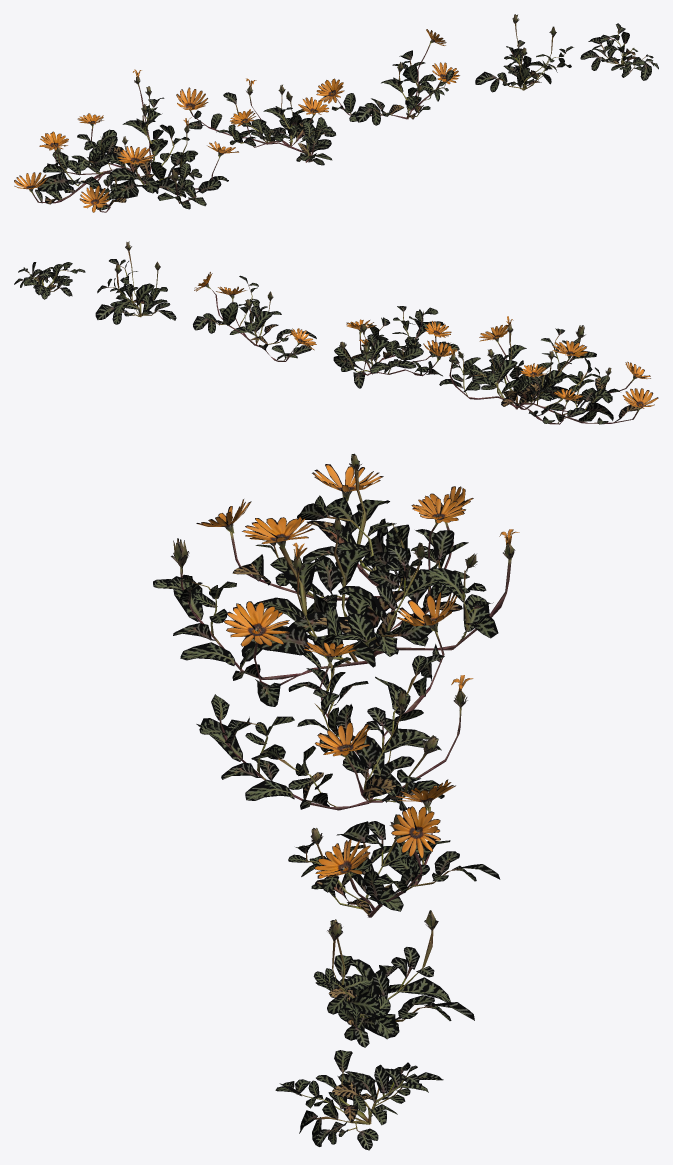
Rendered from veg_flower_ursinia.glb.
The picture shows the model from 3 angles, top to bottom: view 1: azimuth 30°, elevation 25°; view 2: azimuth 150°, elevation 25°; view 3: azimuth 270°, elevation 25°; orthographic projection. The views are drawn at different scales.
Visible parts, largest first — view 1: flower_ursinia_a_LOD0, flower_ursinia_b_LOD0, flower_ursinia_c_LOD0, flower_ursinia_d_LOD0, flower_ursinia_e_LOD0; view 2: flower_ursinia_a_LOD0, flower_ursinia_b_LOD0, flower_ursinia_c_LOD0, flower_ursinia_d_LOD0, flower_ursinia_e_LOD0; view 3: flower_ursinia_a_LOD0, flower_ursinia_b_LOD0, flower_ursinia_c_LOD0, flower_ursinia_d_LOD0, flower_ursinia_e_LOD0.
Part boxes in pixels (x1=…): flower_ursinia_a_LOD0: x1=14, y1=69, x2=238, y2=212; flower_ursinia_b_LOD0: x1=176, y1=78, x2=335, y2=165; flower_ursinia_c_LOD0: x1=316, y1=29, x2=459, y2=125; flower_ursinia_d_LOD0: x1=475, y1=14, x2=573, y2=92; flower_ursinia_e_LOD0: x1=580, y1=23, x2=658, y2=80; flower_ursinia_a_LOD0: x1=439, y1=316, x2=658, y2=424; flower_ursinia_b_LOD0: x1=333, y1=306, x2=459, y2=388; flower_ursinia_c_LOD0: x1=193, y1=272, x2=316, y2=361; flower_ursinia_d_LOD0: x1=95, y1=241, x2=176, y2=324; flower_ursinia_e_LOD0: x1=14, y1=262, x2=85, y2=299; flower_ursinia_a_LOD0: x1=153, y1=453, x2=519, y2=706; flower_ursinia_b_LOD0: x1=196, y1=591, x2=473, y2=810; flower_ursinia_c_LOD0: x1=288, y1=779, x2=500, y2=917; flower_ursinia_d_LOD0: x1=313, y1=910, x2=474, y2=1047; flower_ursinia_e_LOD0: x1=275, y1=1050, x2=443, y2=1150.
Size of the model in its own units: 2.47 by 0.3087 by 0.6179.
Materials: 1 (1 with a texture image).
